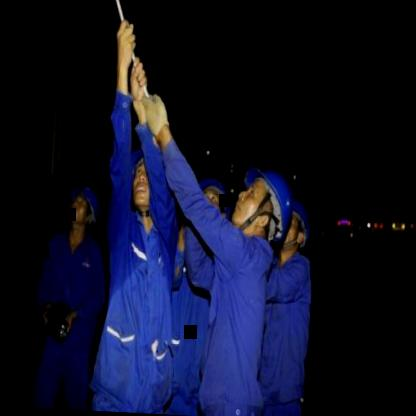helmet: (228, 162, 298, 244), (64, 182, 100, 246), (276, 200, 312, 258), (194, 173, 228, 229)
